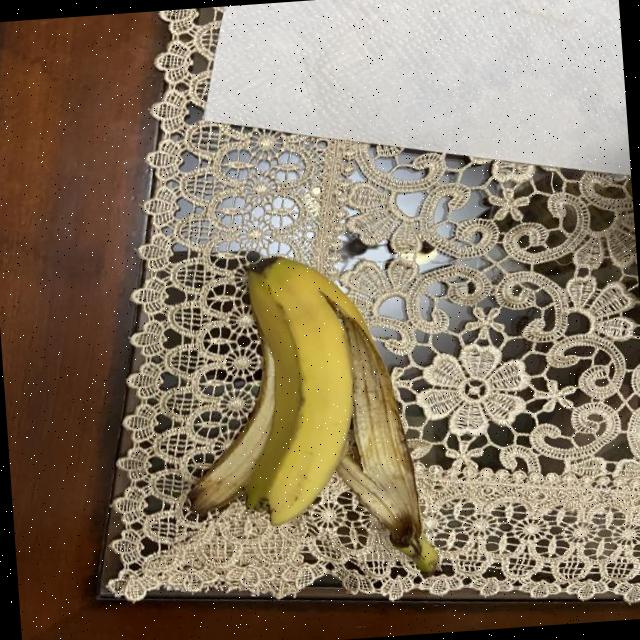banana-peel: (170, 245, 440, 590), (317, 282, 440, 579)
